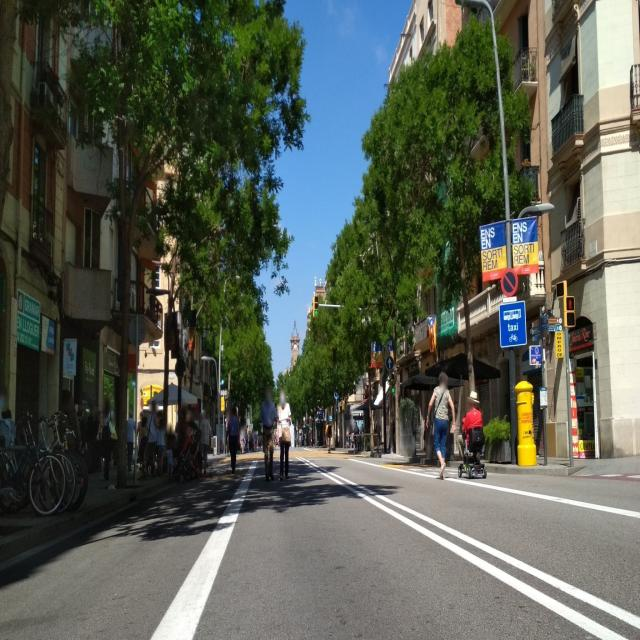forb_stopping: (502, 272, 516, 295)
